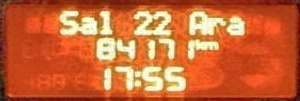1: (99, 63, 112, 91), (145, 37, 157, 59), (185, 39, 193, 63)
2: (150, 7, 174, 34), (131, 7, 151, 34)
4: (114, 35, 138, 58)
5: (163, 65, 186, 91), (140, 65, 162, 91)
7: (111, 63, 131, 90), (159, 35, 176, 58)
8: (96, 37, 114, 60)
X: (58, 8, 79, 34), (189, 9, 208, 35), (225, 14, 245, 37), (97, 9, 114, 34), (207, 15, 225, 35), (80, 15, 97, 34), (133, 68, 141, 89), (204, 39, 218, 49), (194, 37, 204, 48)
